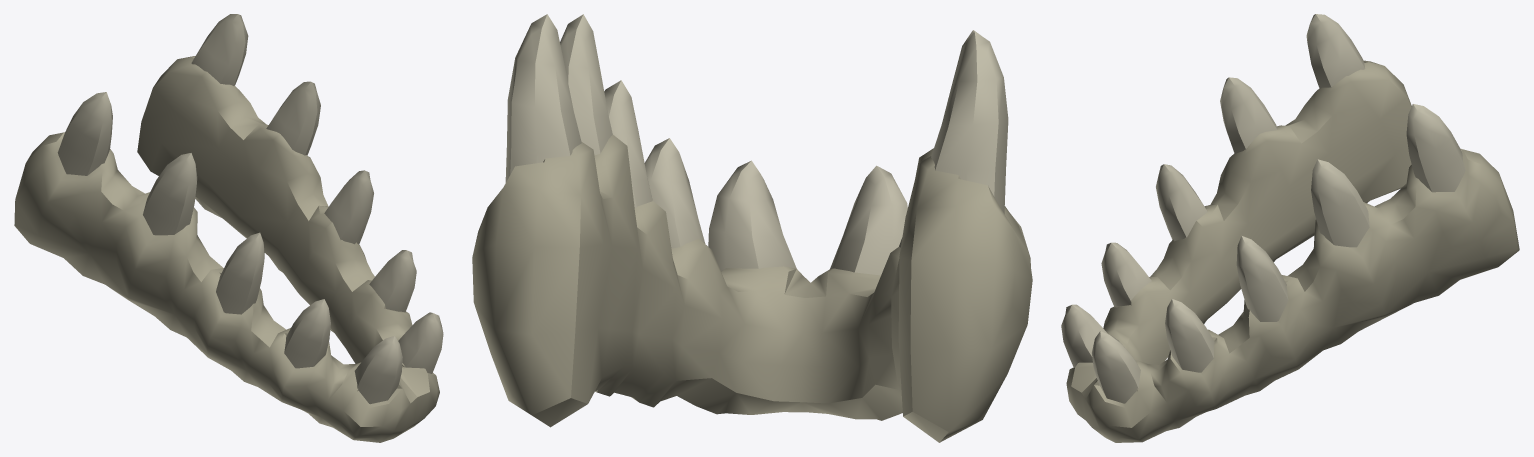
The picture shows the model from 3 angles, left to right: view 1: azimuth 30°, elevation 25°; view 2: azimuth 150°, elevation 25°; view 3: azimuth 270°, elevation 25°; orthographic projection. The views are drawn at different scales.
Visible parts, largest first — view 1: model_1.086; view 2: model_1.086; view 3: model_1.086.
Part boxes in pixels (bbox=[...]): model_1.086: bbox=[14, 14, 443, 442]; model_1.086: bbox=[472, 14, 1032, 442]; model_1.086: bbox=[1061, 14, 1519, 442].
Size of the model in its own units: 4.12 by 4.14 by 5.35.
